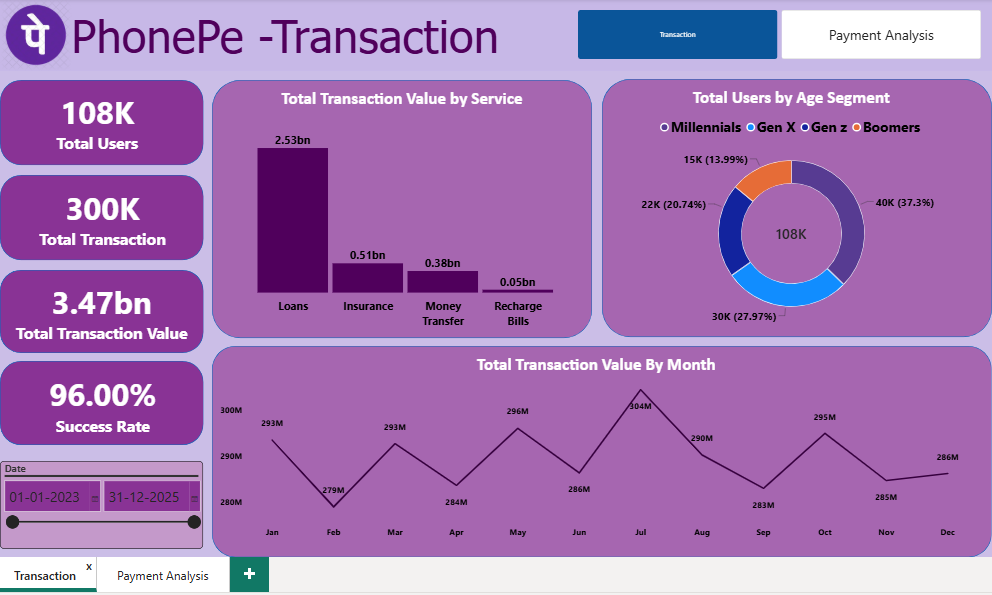

The page's visual inventory and layout, read from the dashboard file:
{"tool":"powerbi","page":{"name":"Dashboard","canvas":[1920,1080],"ordinal":0},"visuals":[{"type":"textbox","box":[0,0,1919.8,157.3],"z":0},{"type":"shape","box":[0,170.3,394.8,185.8],"z":1000},{"type":"shape","box":[0,387.1,392.9,191.6],"z":2000},{"type":"shape","box":[0,605.8,392.9,191.6],"z":3000},{"type":"shape","box":[0,832.3,392.9,195.5],"z":4000},{"type":"card","fields":{"Values":["All_Measures.Total Users"]},"box":[0,172.3,392.9,183.9],"z":5000},{"type":"card","fields":{"Values":["All_Measures.Total Transaction"]},"box":[0,387.1,392.9,191.6],"z":6000},{"type":"card","fields":{"Values":["All_Measures.Total Transaction Value"]},"box":[0,605.8,394.8,191.6],"z":7000},{"type":"card","fields":{"Values":["All_Measures.Success Rate"]},"box":[0,833.4,393.3,195.6],"z":8000},{"type":"shape","box":[410.3,172.2,735.6,482.6],"z":9000},{"type":"shape","box":[1165,172.2,754.7,482.6],"z":10000},{"type":"columnChart","title":"Total Transaction Value by Service","fields":{"Category":["All_Transactions.Service"],"Y":["All_Measures.Total Transaction Value","All_Measures.Total Transaction"]},"box":[410.3,174.3,735.6,480.5],"z":11000},{"type":"shape","box":[411,672.1,1509,408.8],"z":12000},{"type":"lineChart","title":"Total Transaction Value By Month","fields":{"Category":["Date Table.MonthName"],"Y":["All_Measures.Total Transaction Value"]},"box":[411,672.1,1509,408.8],"z":13000},{"type":"donutChart","title":"Total Users by Age Segment","fields":{"Category":["All_Users.Age_Segment"],"Y":["All_Measures.Total Users"]},"box":[1166.6,171.2,753.4,481.6],"z":14000},{"type":"image","box":[0,0,139.1,139.1],"z":15000},{"type":"pageNavigator","box":[1162.9,40.4,735.6,76.5],"z":16000},{"type":"slicer","fields":{"Values":["Date Table.Date"]},"box":[638.2,16.1,423.7,142.1],"z":17000}]}

Visuals, with their boxes on the page's 1920x1080 design canvas (x1, y1, x2, y2). These are canvas units, not pixel positions in the 992x595 screenshot, which may show the page scaled, cropped or inside an application window:
textbox: <box>0,0,1920,157</box>
shape: <box>0,170,395,356</box>
shape: <box>0,387,393,579</box>
shape: <box>0,606,393,797</box>
shape: <box>0,832,393,1028</box>
card - All_Measures.Total Users: <box>0,172,393,356</box>
card - All_Measures.Total Transaction: <box>0,387,393,579</box>
card - All_Measures.Total Transaction Value: <box>0,606,395,797</box>
card - All_Measures.Success Rate: <box>0,833,393,1029</box>
shape: <box>410,172,1146,655</box>
shape: <box>1165,172,1920,655</box>
"Total Transaction Value by Service" columnChart: <box>410,174,1146,655</box>
shape: <box>411,672,1920,1081</box>
"Total Transaction Value By Month" lineChart: <box>411,672,1920,1081</box>
"Total Users by Age Segment" donutChart: <box>1167,171,1920,653</box>
image: <box>0,0,139,139</box>
pageNavigator: <box>1163,40,1898,117</box>
slicer - Date Table.Date: <box>638,16,1062,158</box>
